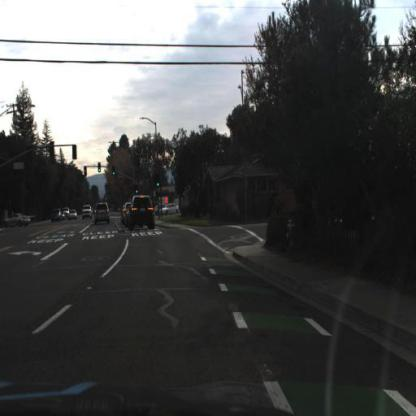car: (127, 196, 156, 234), (4, 212, 31, 230), (94, 202, 112, 226), (83, 206, 93, 220), (52, 208, 62, 222), (67, 210, 78, 221)
trafficLight: (84, 165, 89, 177)
trafficLight-Green: (98, 162, 103, 175), (135, 183, 140, 195), (157, 180, 162, 192), (99, 162, 103, 176), (113, 166, 117, 179), (112, 167, 117, 177)
